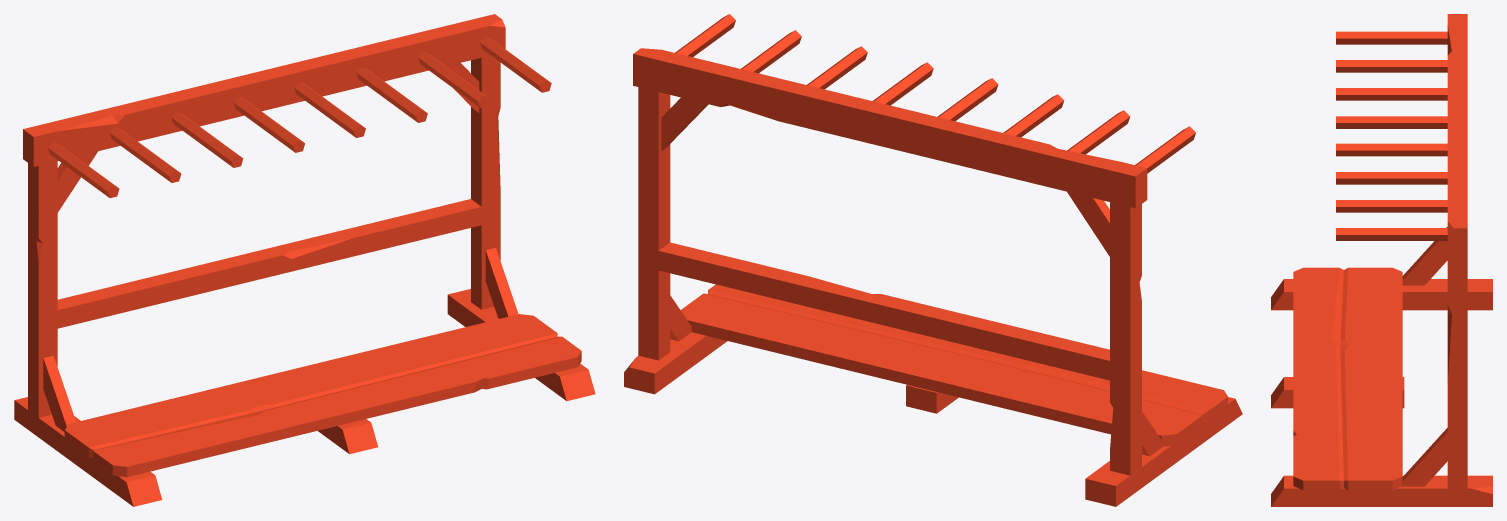
Rendered from SM_Surf_Stand_A_City.fbx.
3 renders of one model, left to right at view 1: azimuth 30°, elevation 25°; view 2: azimuth 150°, elevation 25°; view 3: azimuth 270°, elevation 25°, orthographic. The views are drawn at different scales.
Visible parts, largest first — view 1: SM_Surf_Stand_A_City; view 2: SM_Surf_Stand_A_City; view 3: SM_Surf_Stand_A_City.
Boxes of the visible parts, bbox=[...] form: SM_Surf_Stand_A_City: bbox=[14, 14, 595, 506]; SM_Surf_Stand_A_City: bbox=[624, 14, 1242, 506]; SM_Surf_Stand_A_City: bbox=[1271, 14, 1492, 506].
Size of the model in its own units: 2.31 by 1.41 by 1.01.
